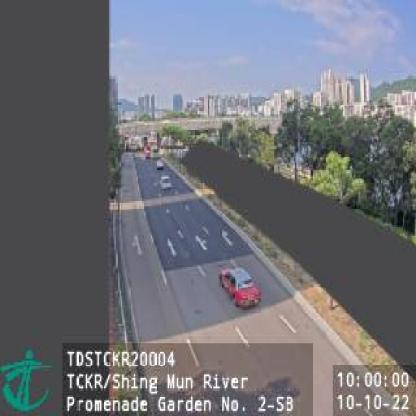Car: (218, 264, 262, 312), (160, 174, 172, 190), (156, 156, 167, 171)
